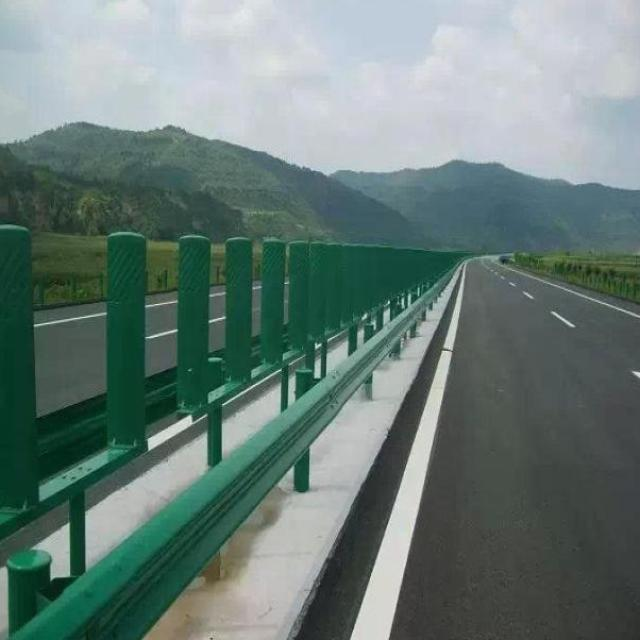Guard rail: (6, 279, 444, 640), (36, 393, 107, 479), (145, 368, 176, 422)
